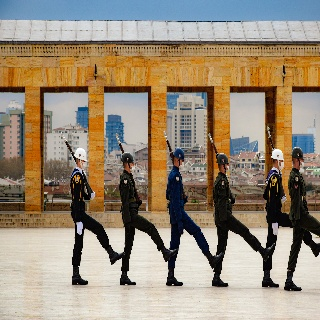rifle: (59, 131, 94, 197), (114, 131, 142, 205), (162, 129, 190, 202), (206, 131, 235, 198), (265, 124, 288, 204)
